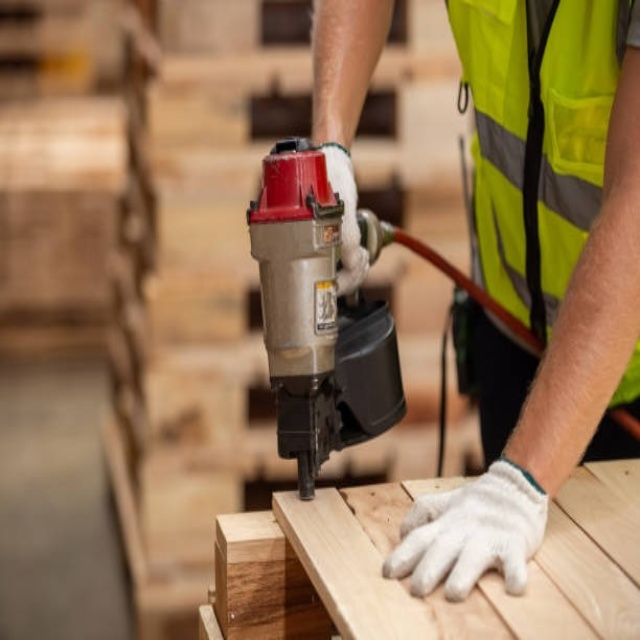Guantes: (384, 455, 551, 602), (317, 143, 370, 299)
